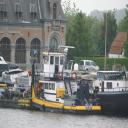tugboat: (30, 45, 104, 118)
